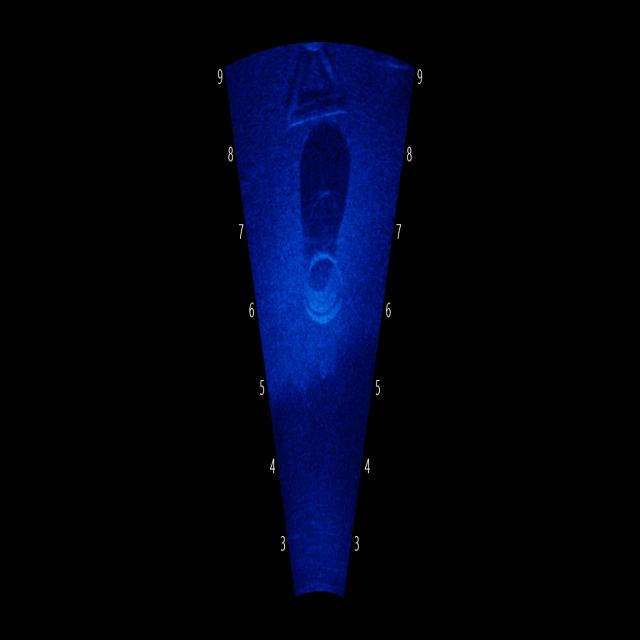circle: (288, 226, 358, 348)
triangle: (270, 42, 361, 144)
